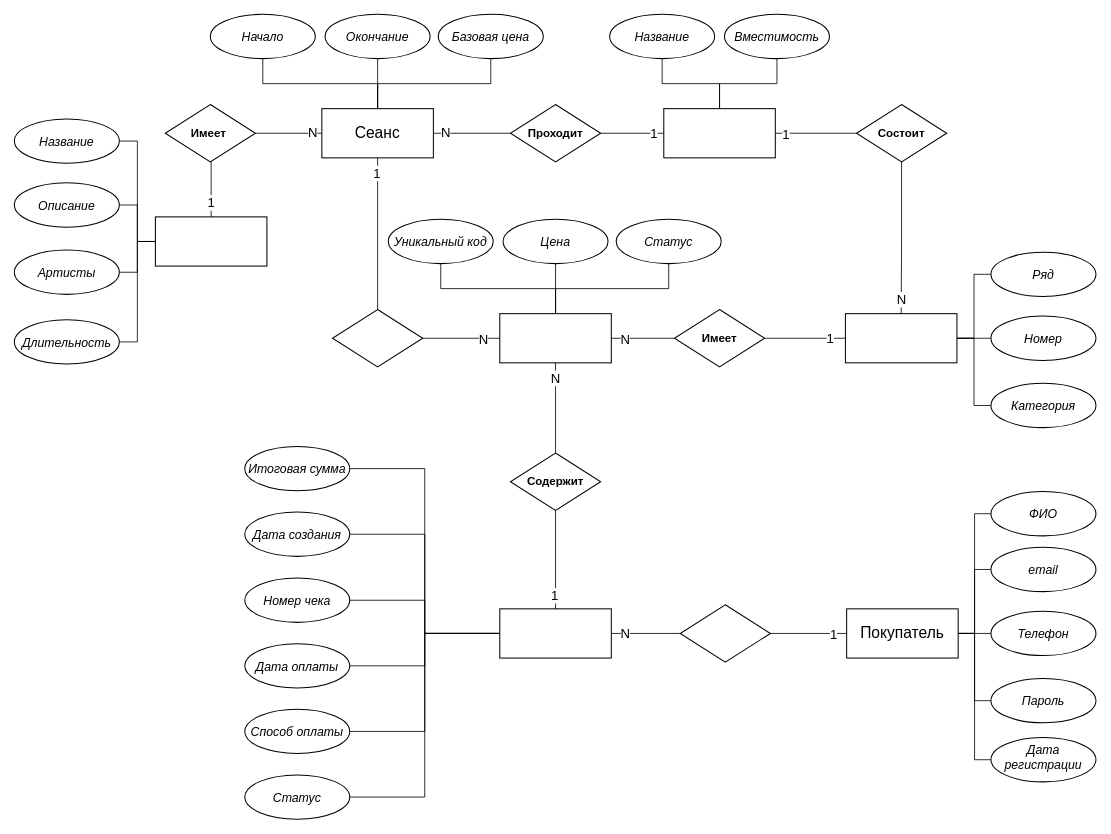
Some shapes in this 1111 by 834 pixel diagram are drawn without their labels. The centre of each missing label's shape, as x and y in pixels:
Билет: the point at 555,338
Делает: the point at 725,633
Заказ: the point at 555,633
Зал: the point at 719,133
Место: the point at 901,338
Представление: the point at 210,241
Продается: the point at 377,338
